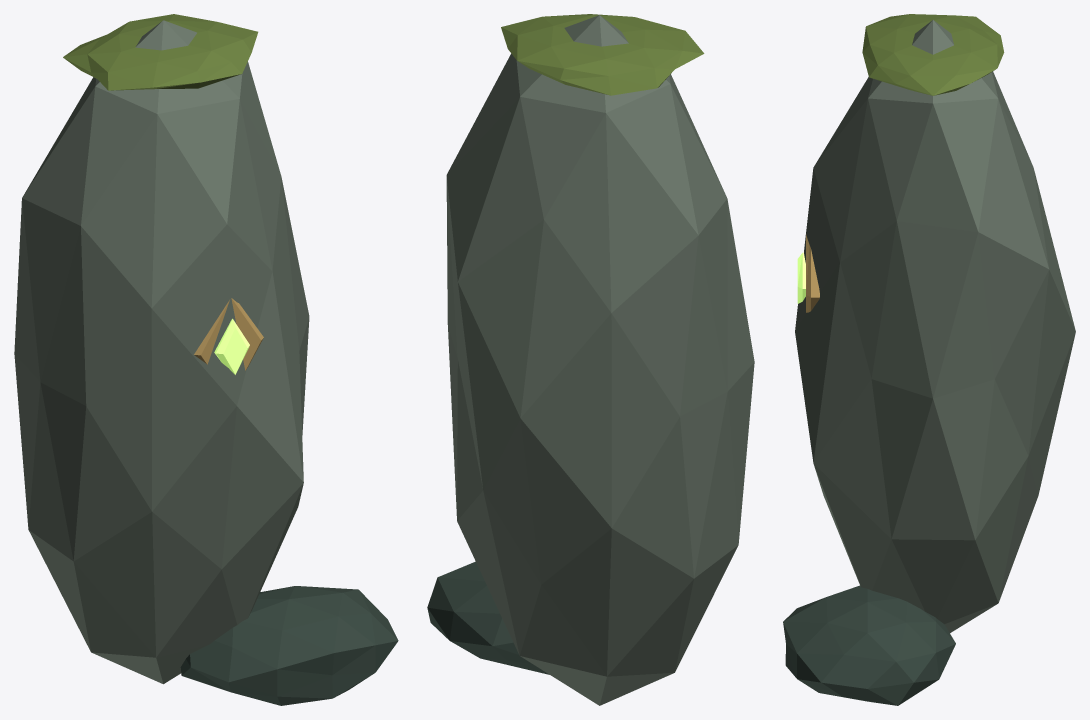
The model's file is standing_stone.glb.
3 renders of one model, left to right at view 1: azimuth 30°, elevation 25°; view 2: azimuth 150°, elevation 25°; view 3: azimuth 270°, elevation 25°, orthographic. The views are drawn at different scales.
Parts seen in each view (by area): view 1: stone_151, darkStone_156, moss_152, gold_154, rune_155; view 2: stone_151, moss_152, darkStone_156; view 3: stone_151, darkStone_156, moss_152, gold_154.
Part boxes in pixels (x1,y1,x2,y2): stone_151: (14,20,309,684); darkStone_156: (180,586,398,705); moss_152: (63,14,258,90); gold_154: (194,298,263,370); rune_155: (214,318,249,374); stone_151: (446,15,754,705); moss_152: (501,14,704,95); darkStone_156: (427,561,549,674); stone_151: (795,20,1075,632); darkStone_156: (783,585,955,705); moss_152: (862,14,1004,95); gold_154: (806,234,819,312).
Bounding box in the file's own units: 1.03 × 2.1 × 0.8935.
